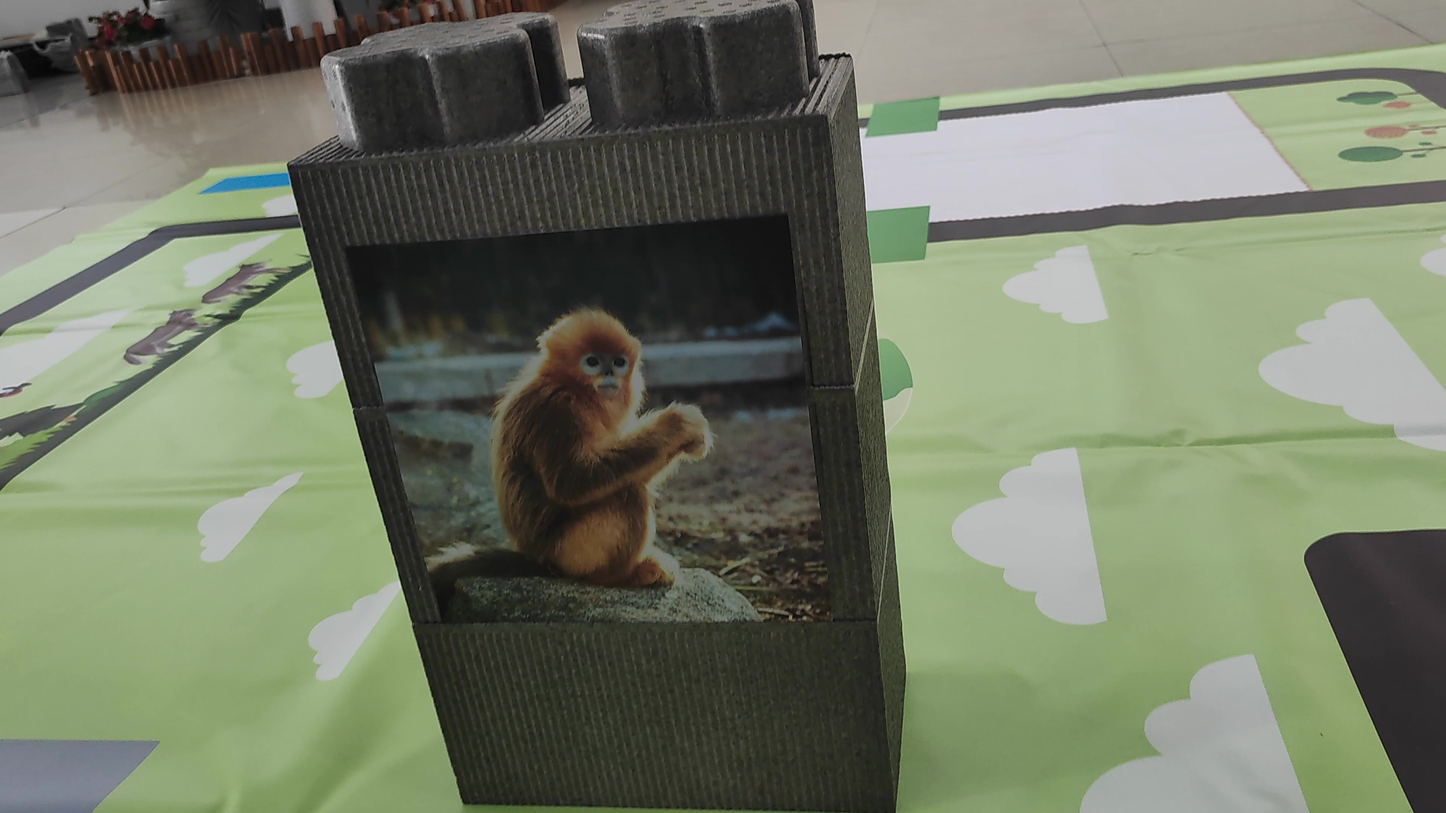monkey: (433, 264, 740, 615)
